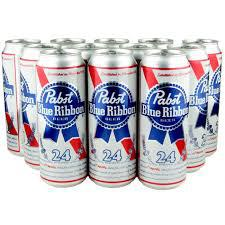beer: (1, 37, 222, 189)
